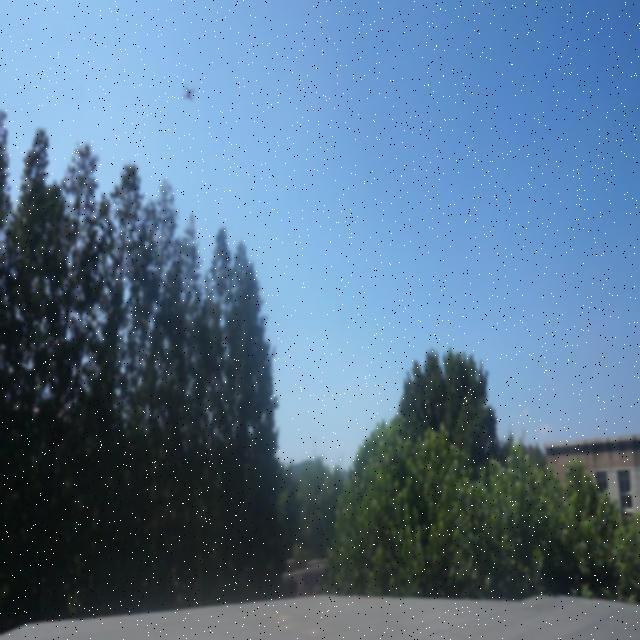UAV: (182, 84, 195, 102)
